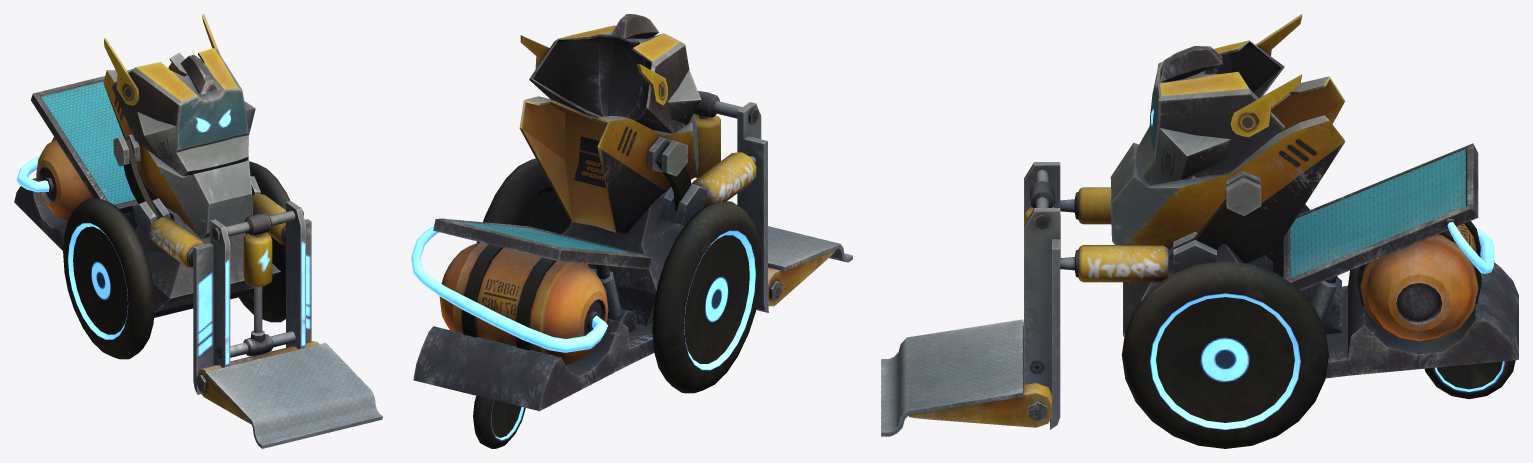
The model's file is DM001_Scifi_Robot_Spark_01.fbx.
3 renders of one model, left to right at view 1: azimuth 30°, elevation 25°; view 2: azimuth 150°, elevation 25°; view 3: azimuth 270°, elevation 25°, orthographic. The views are drawn at different scales.
Parts seen in each view (by area): view 1: Body, Lifter, Tire_R, Tire_L; view 2: Body, Tire_R, Tire_L, Lifter, Tire_M; view 3: Body, Tire_L, Lifter, Tire_M.
Part boxes in pixels (left/top/right/bottom): Body: left=14, top=14, right=311, bottom=394; Lifter: left=196, top=287, right=382, bottom=448; Tire_R: left=63, top=198, right=154, bottom=359; Tire_L: left=239, top=161, right=290, bottom=322; Body: left=411, top=14, right=768, bottom=410; Tire_R: left=652, top=201, right=761, bottom=393; Tire_L: left=476, top=158, right=570, bottom=242; Lifter: left=768, top=226, right=852, bottom=306; Tire_M: left=473, top=396, right=525, bottom=448; Body: left=1024, top=14, right=1518, bottom=429; Tire_L: left=1122, top=261, right=1328, bottom=448; Lifter: left=881, top=319, right=1051, bottom=436; Tire_M: left=1424, top=360, right=1515, bottom=399.
Bounding box in the file's own units: 68.07 × 174 × 108.
